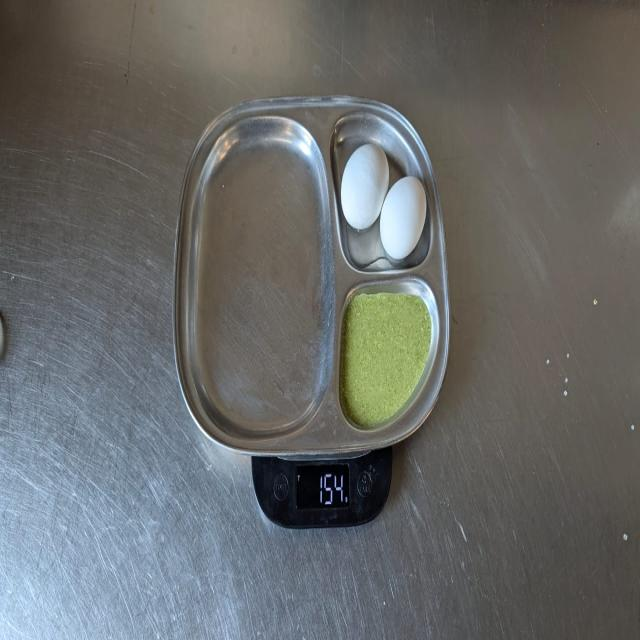Boiled Egg: (339, 144, 428, 258)
Chutney: (339, 287, 433, 429)
